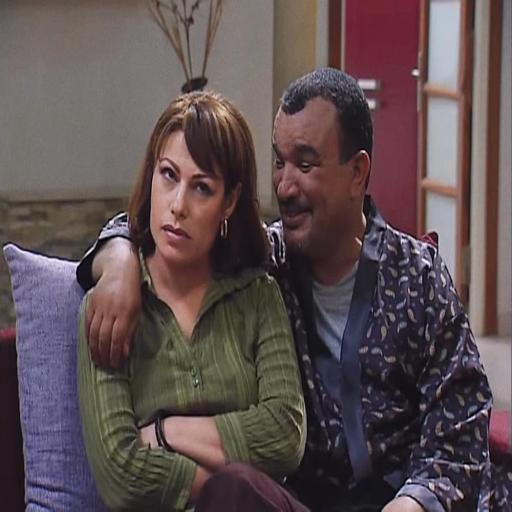slimane: (273, 69, 372, 259)
zeineb: (148, 132, 240, 279)
